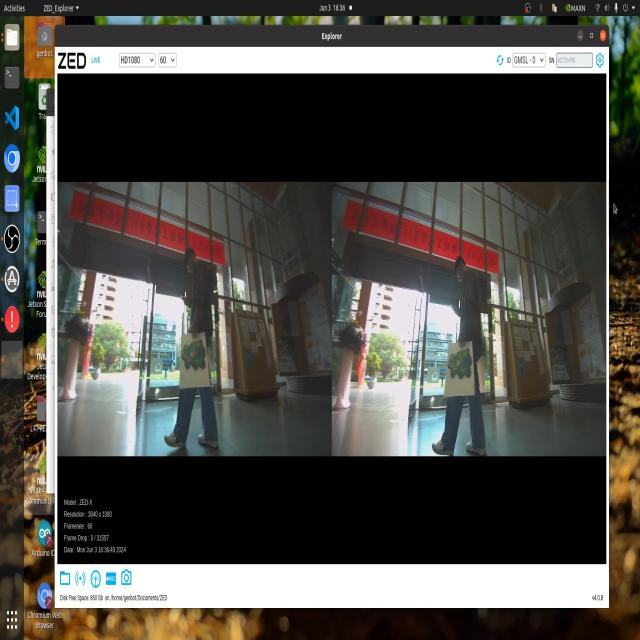green: (444, 337, 479, 384), (182, 333, 213, 375)
